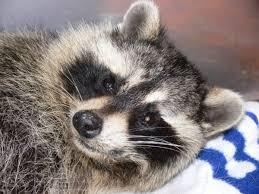raccoon: (1, 0, 245, 194)
